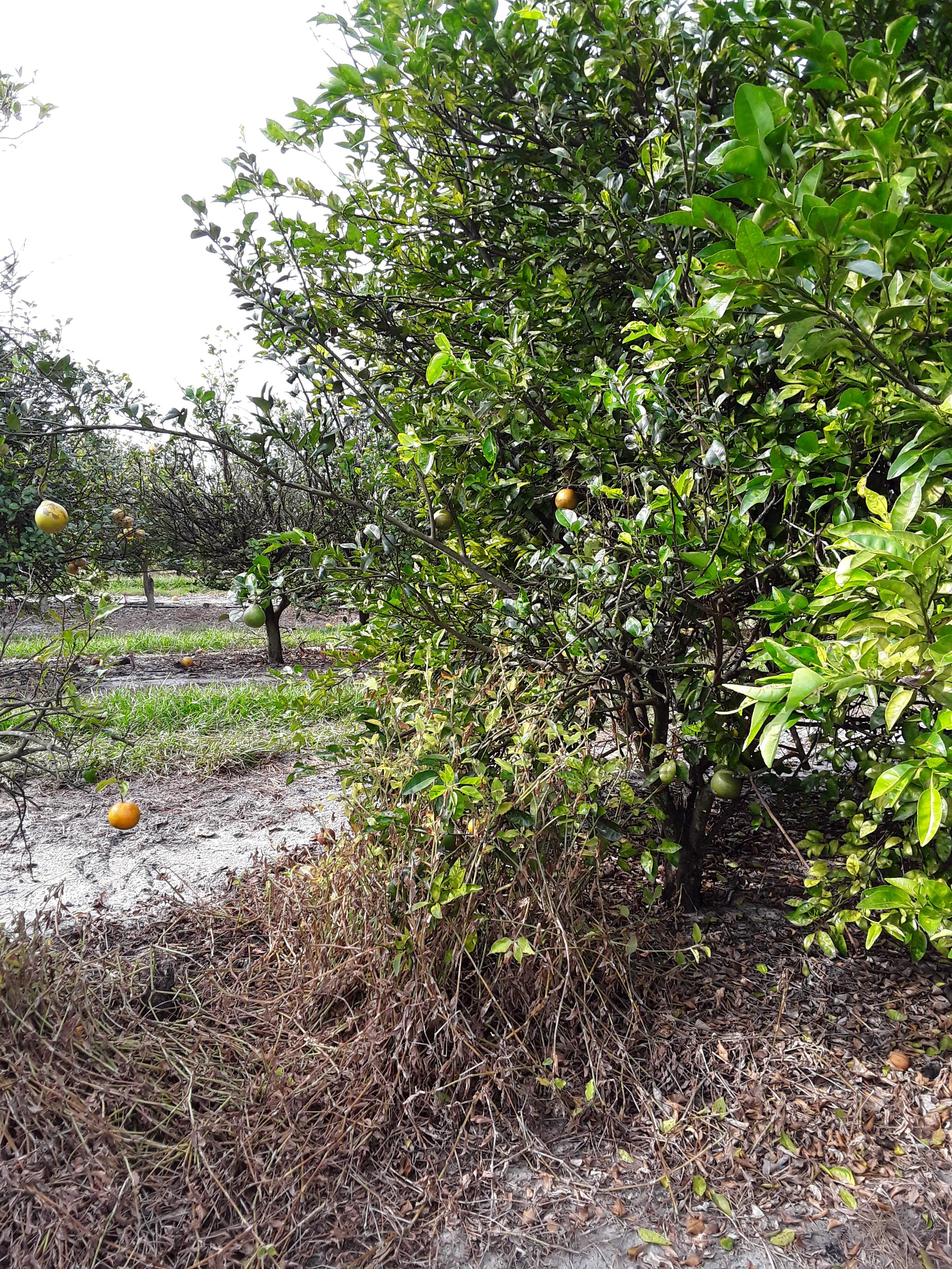fruit_on_ground: (24, 494, 76, 539), (103, 796, 145, 832), (710, 767, 744, 807), (549, 483, 582, 515), (422, 505, 454, 533), (241, 603, 271, 630), (62, 554, 89, 578), (106, 505, 125, 521), (121, 513, 138, 528), (119, 525, 135, 540), (132, 525, 148, 540)
fruit_on_tree: (178, 655, 196, 668)
